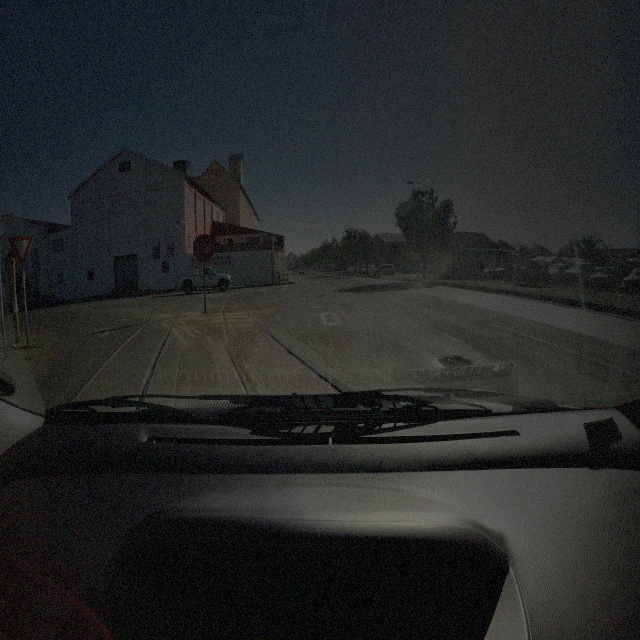pothole: (436, 351, 474, 372), (252, 291, 262, 295), (338, 302, 346, 306)
